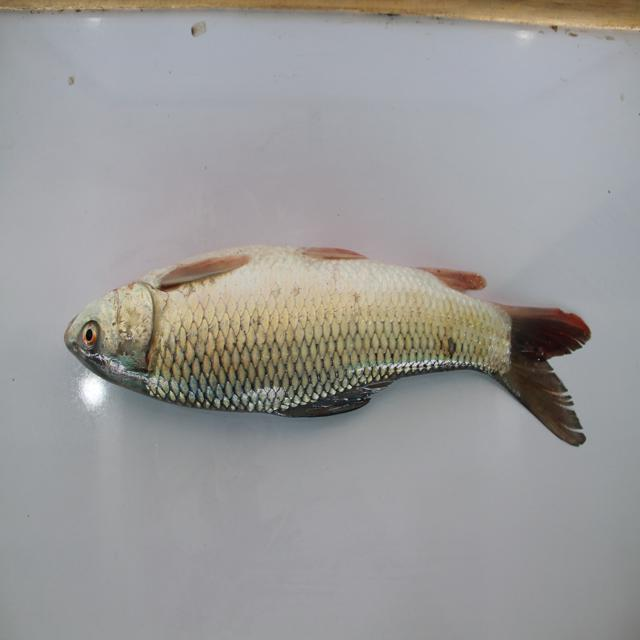Mori: (55, 223, 608, 489)
